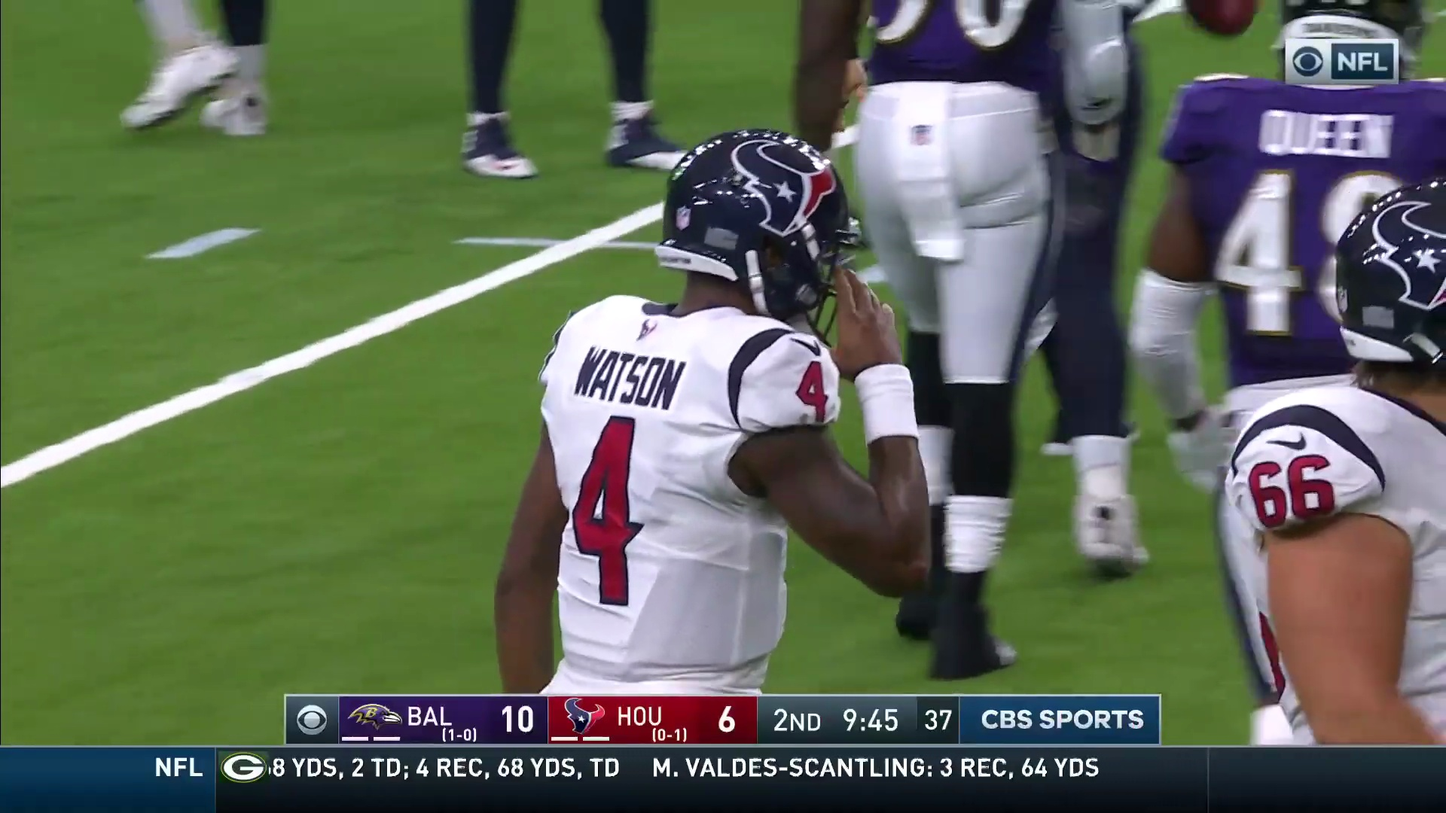Player: (1220, 155, 1446, 671), (122, 0, 271, 130)
